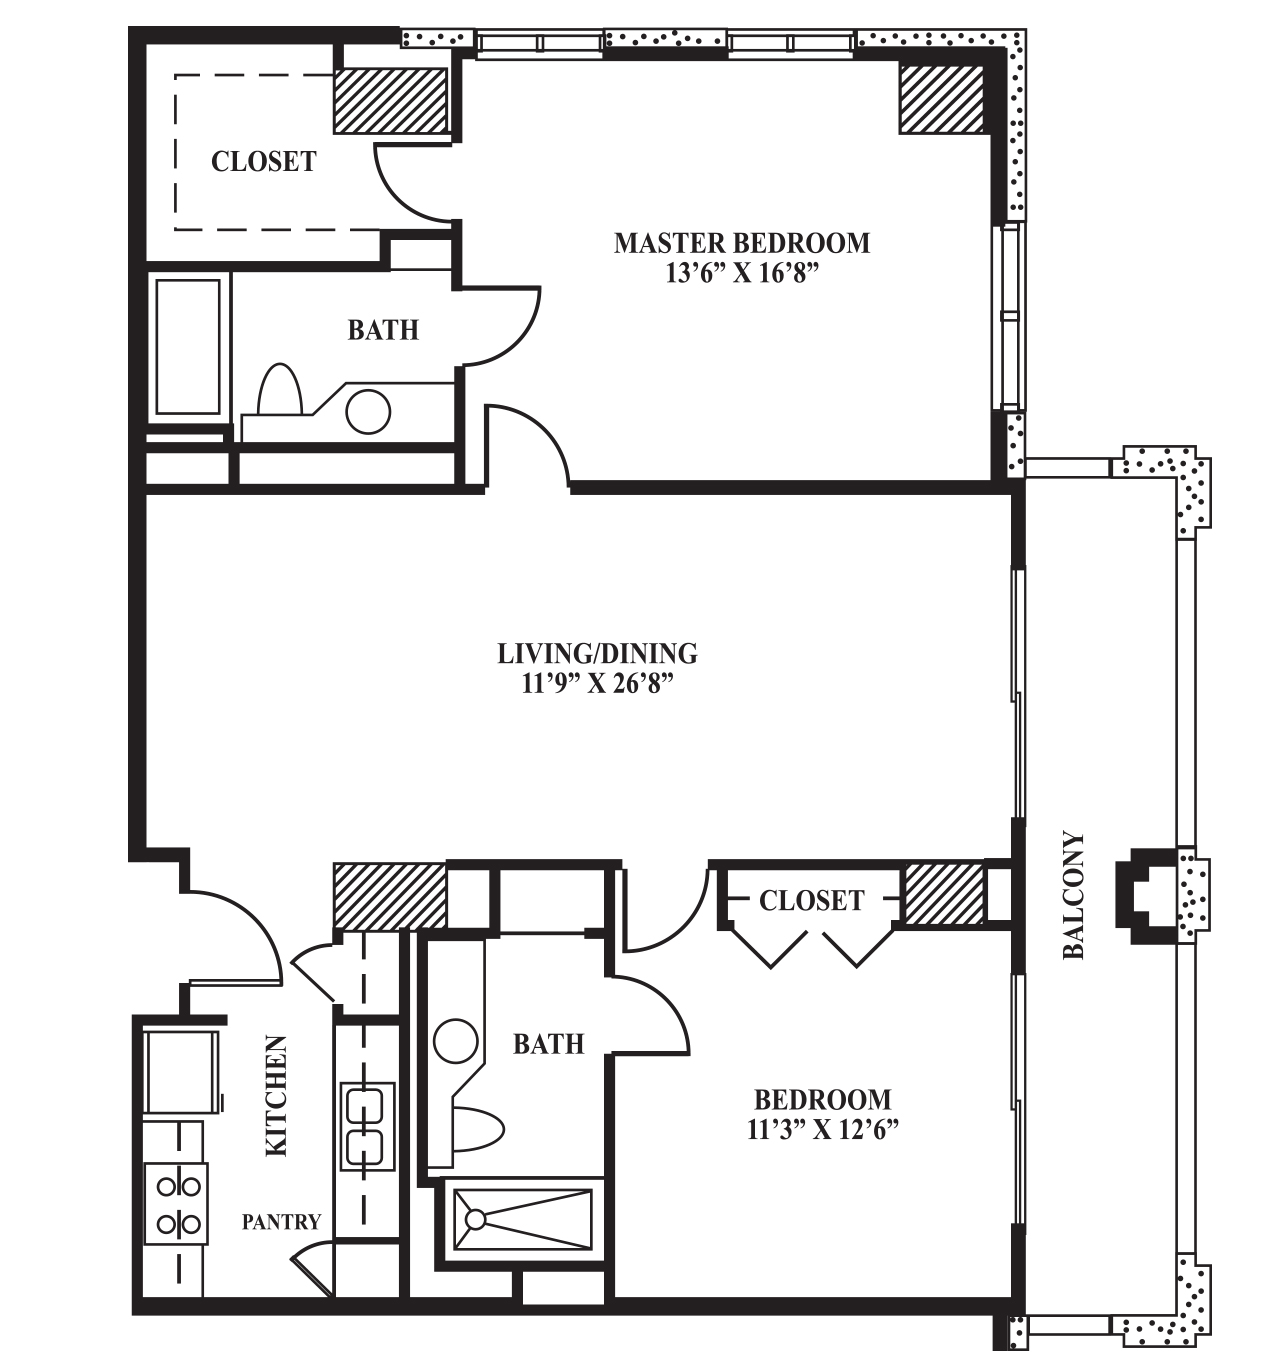wall: (569, 474, 994, 501), (126, 492, 152, 852), (128, 18, 407, 48), (614, 1298, 1024, 1316), (120, 29, 152, 246), (135, 1291, 516, 1310), (601, 1053, 624, 1314), (155, 256, 382, 280), (128, 265, 152, 482), (126, 1012, 143, 1310), (703, 854, 1018, 867), (141, 484, 482, 495), (377, 226, 452, 269), (415, 925, 428, 1188), (401, 929, 409, 1298), (998, 480, 1031, 567), (128, 1009, 236, 1033), (444, 858, 626, 871), (1014, 820, 1031, 960), (709, 860, 735, 929), (124, 843, 194, 867), (448, 220, 465, 290), (485, 871, 505, 925), (173, 865, 197, 882)
